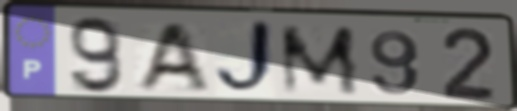2: (439, 25, 500, 103)
9: (66, 14, 127, 96), (367, 28, 422, 96)
A: (131, 20, 213, 93)
J: (212, 17, 279, 100)
M: (276, 23, 364, 97)
